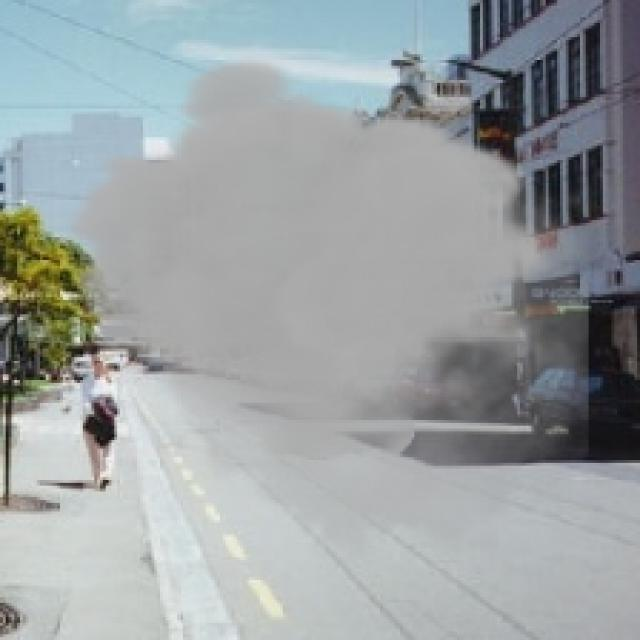Smoke: (62, 54, 588, 572)
